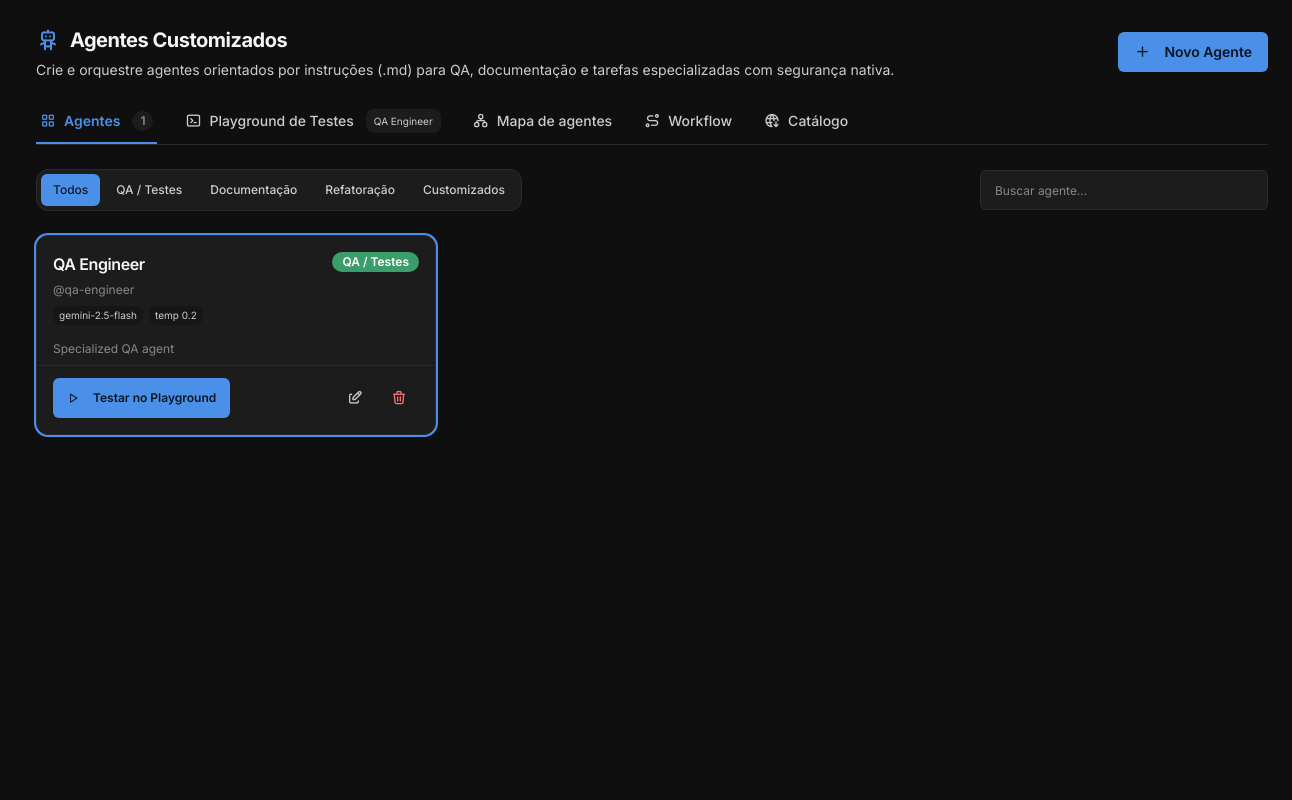
Test case: AgentsView extra paths › executes without a provider and names a selected agent that left the list
The image size is (1292, 800).
Expected: the element with test id "agent-card-qa-engineer" is shown, [36,235,436,435]
Click the button with test id "tab-map" at point(542, 124), box [469,104,616,144]
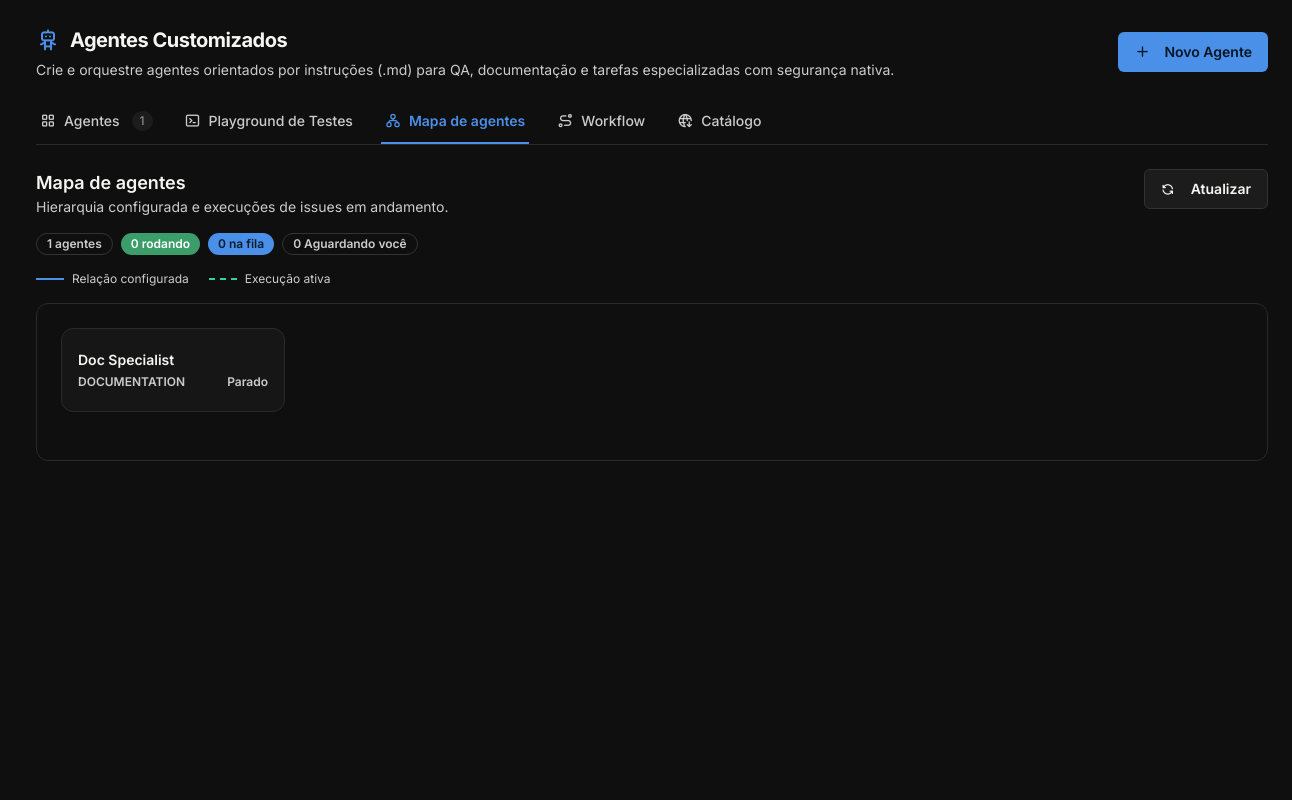
Expected: the button with test id "topology-agent-agent-doc" is shown, [61,328,285,412]
Click the button with test id "tab-playground" at point(269, 124), box [180,104,357,144]
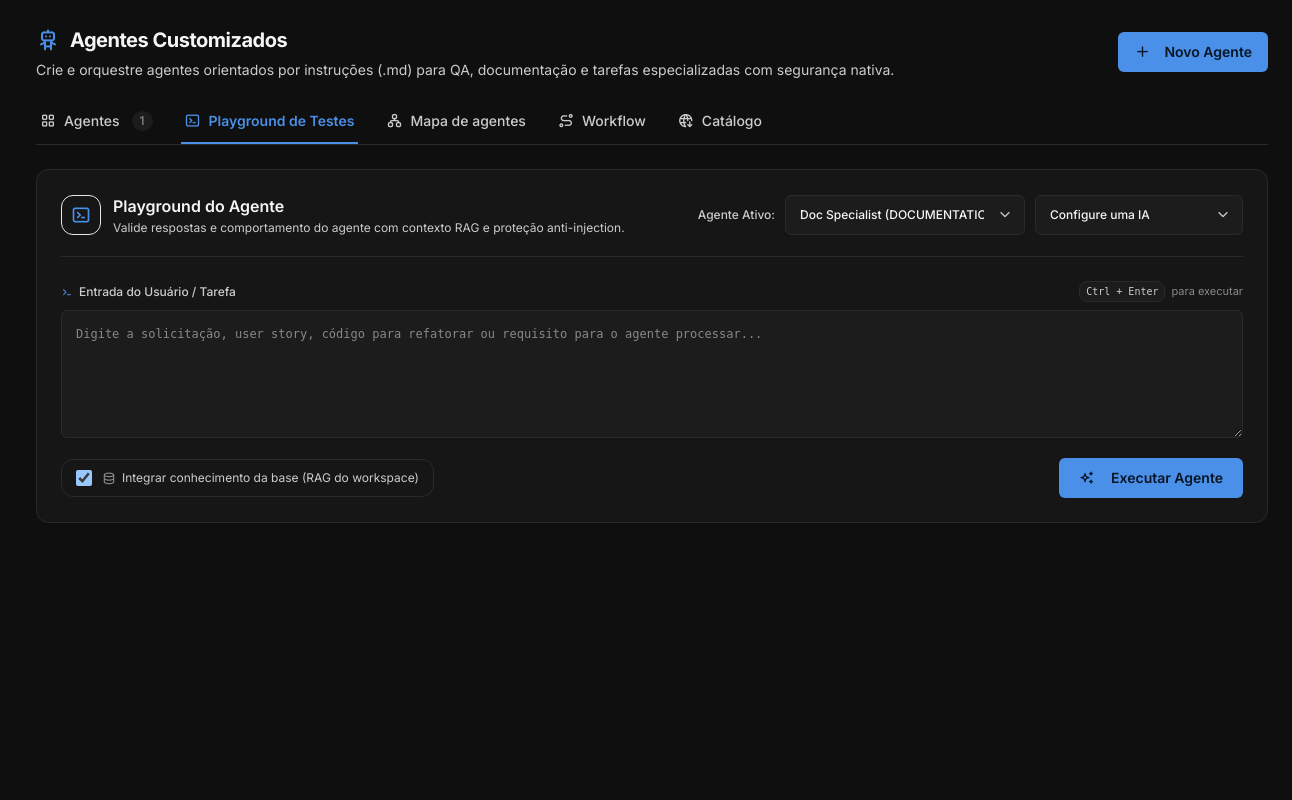
Replace the text in the text box with test id "playground-prompt-input" with "Run it" at point(652, 374), box [61,310,1243,438]
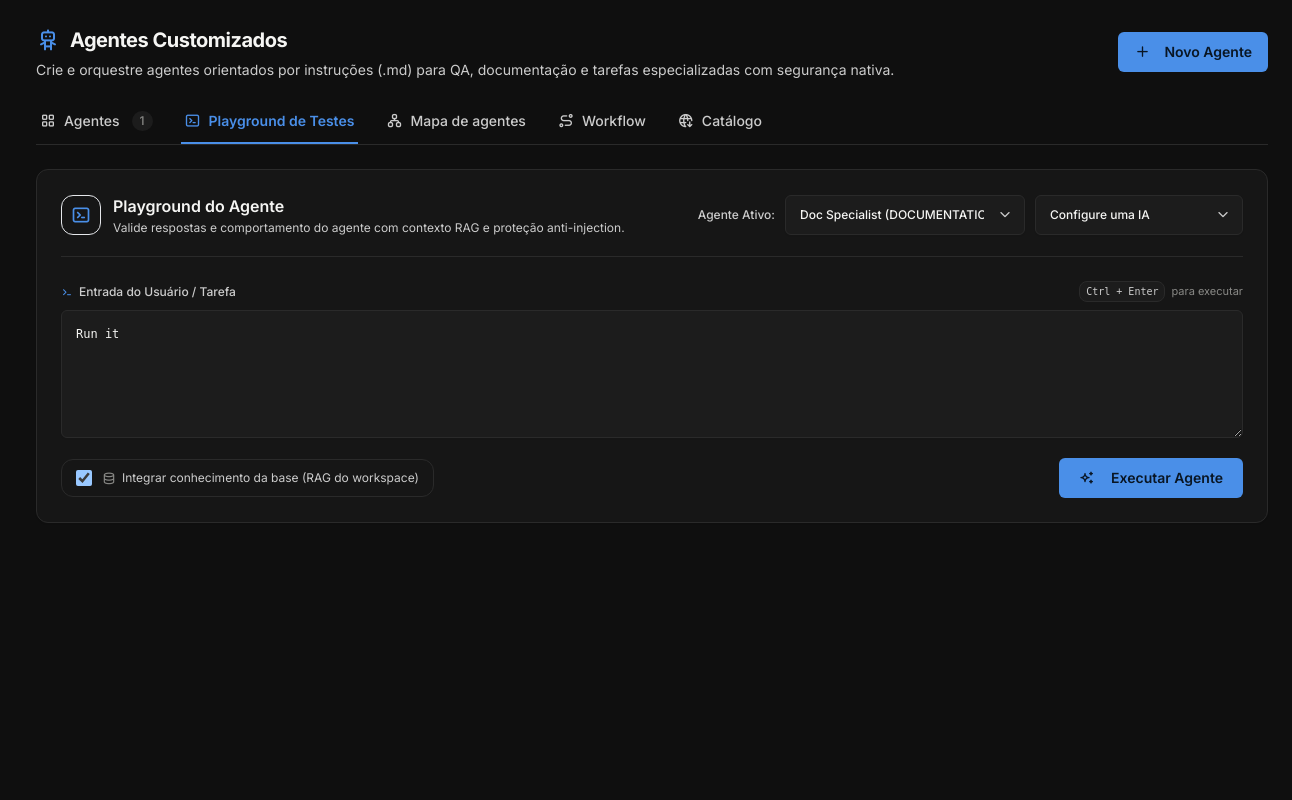
Click the button with test id "playground-execute-button" at point(1151, 478), box [1059,458,1243,498]
(page scrolled)
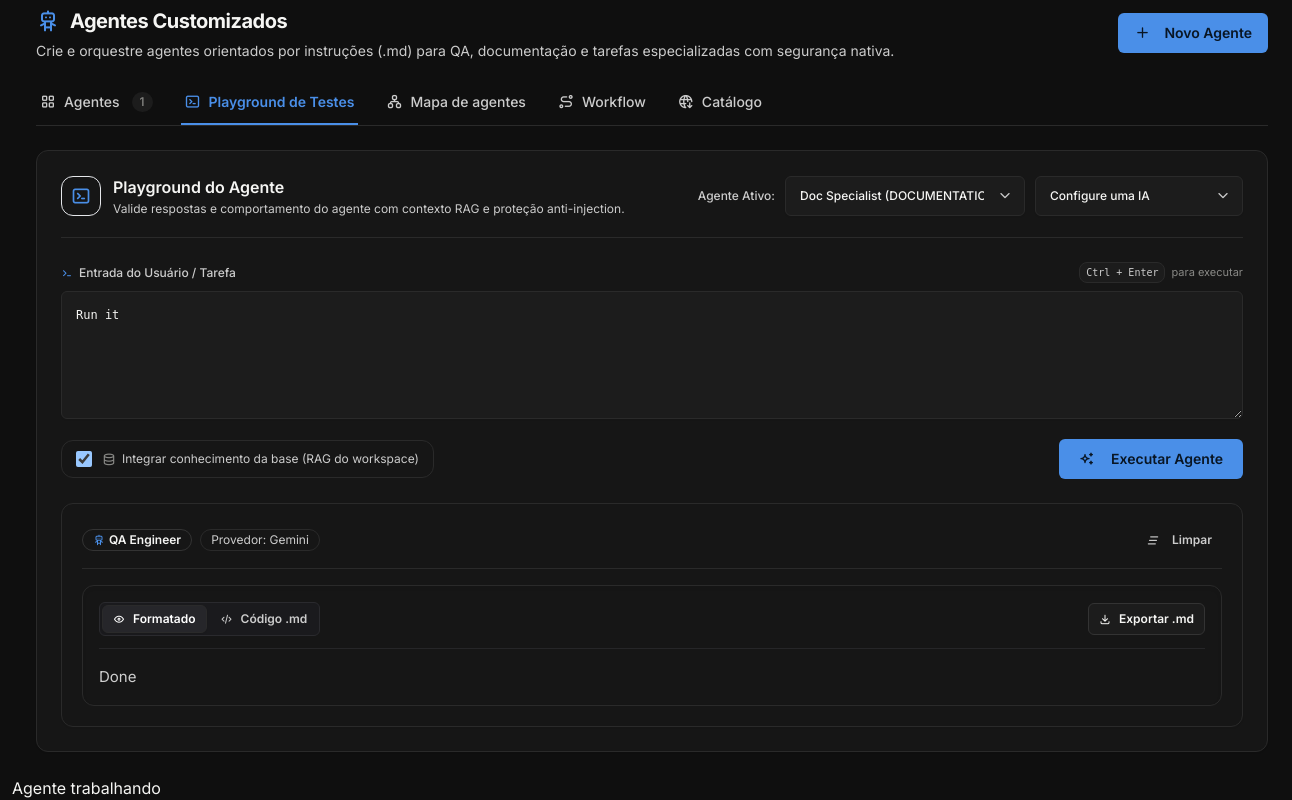
Expected: the list with test id "activity-titles" reads "Agente trabalhando", [12,778,161,798]
